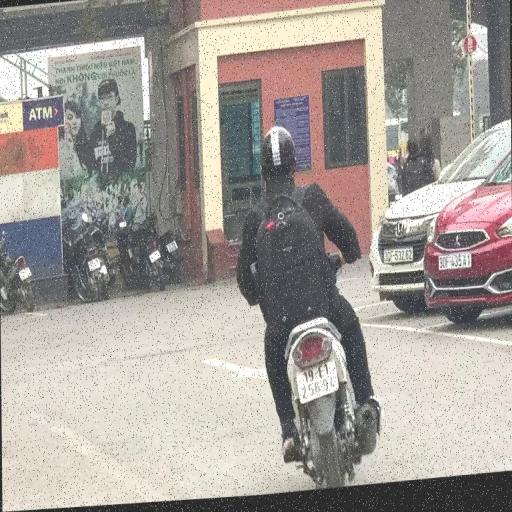bike: (232, 117, 388, 500)
numberplate: (294, 362, 340, 409), (19, 266, 32, 282), (148, 252, 161, 266), (88, 258, 100, 273), (166, 242, 178, 256)
with helmet: (259, 125, 296, 177)
